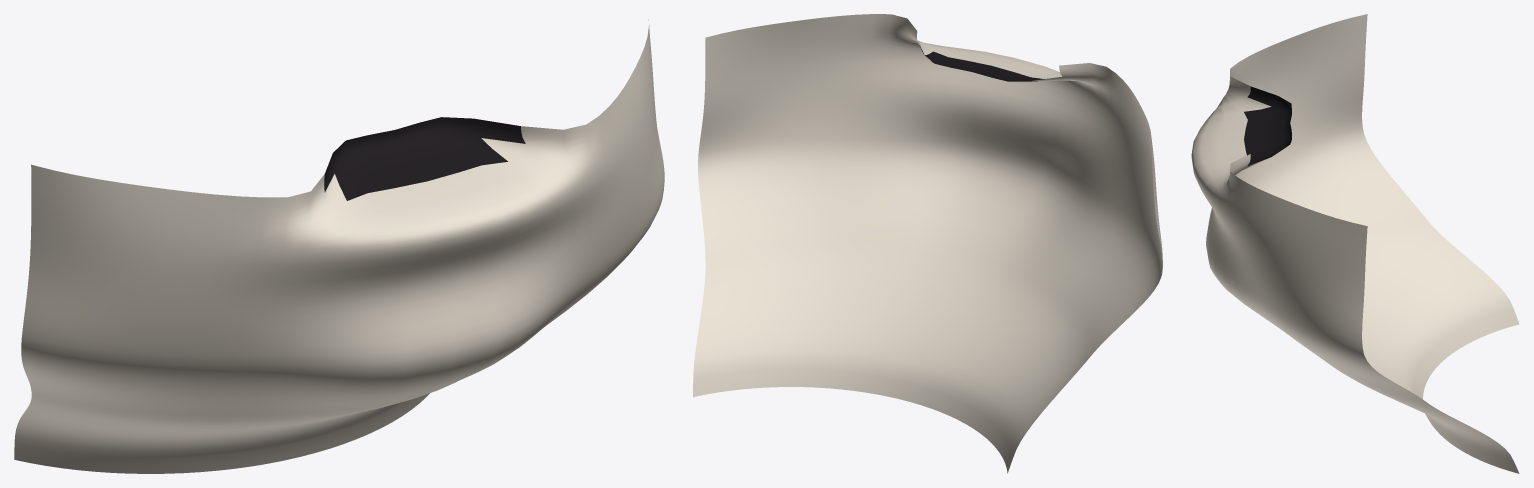
Rendered from th-jaw.glb.
The picture shows the model from 3 angles, left to right: view 1: azimuth 30°, elevation 25°; view 2: azimuth 150°, elevation 25°; view 3: azimuth 270°, elevation 25°; orthographic projection. The views are drawn at different scales.
Parts seen in each view (by area): view 1: th-jaw; view 2: th-jaw; view 3: th-jaw.
Boxes of the visible parts, x1,y1,x2,y2 form: th-jaw: (14,19,664,473); th-jaw: (693,14,1162,473); th-jaw: (1191,14,1519,473).
Size of the model in its own units: 0.1212 by 0.0714 by 0.0761.
